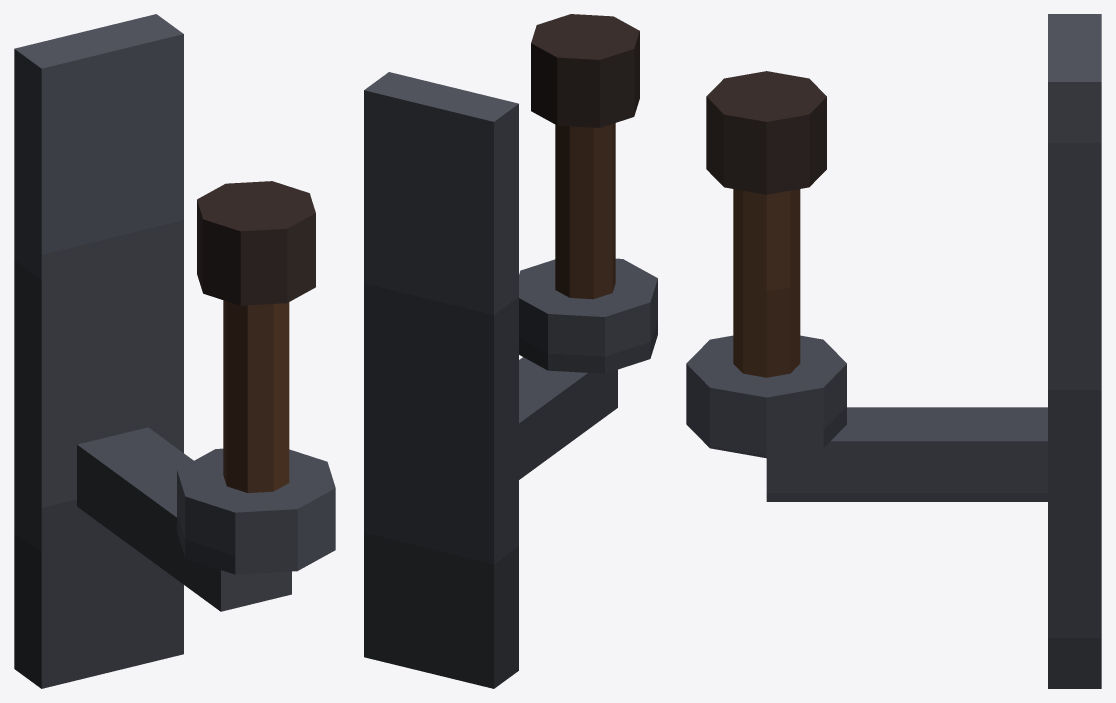
The model's file is wall_torch.glb.
3 renders of one model, left to right at view 1: azimuth 30°, elevation 25°; view 2: azimuth 150°, elevation 25°; view 3: azimuth 270°, elevation 25°, orthographic. The views are drawn at different scales.
Bounding box in the file's own units: 0.12 × 0.5 × 0.31.
1 material, 1 textured.
